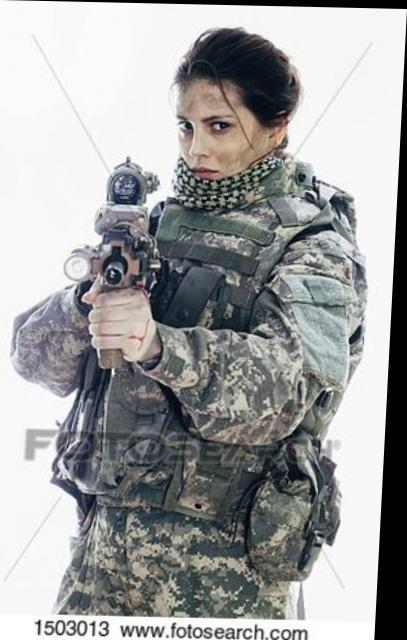other: (12, 22, 376, 615)
